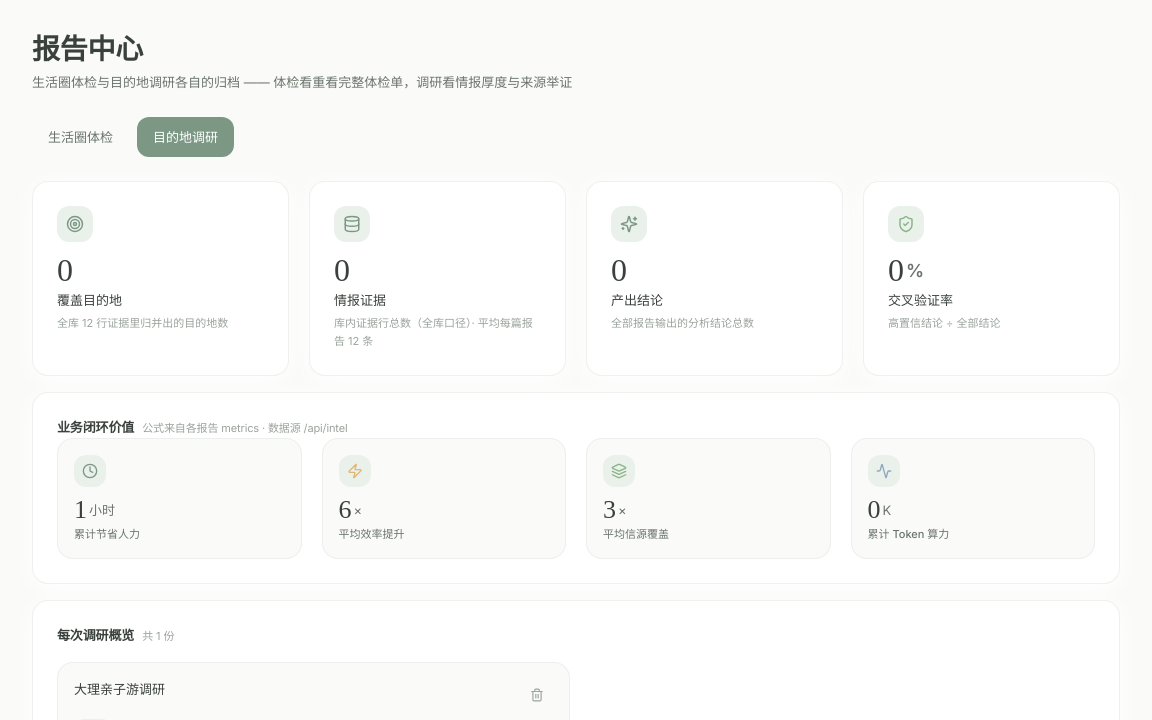
报告中心 · tab 条 › 切回生活圈 → 列表回来，调研内容消失
Expected: the heading "每次调研概览" is shown, x1=57 y1=627 x2=134 y2=643
Click the tab "生活圈体检" at (80, 137), box x1=32 y1=117 x2=129 y2=157
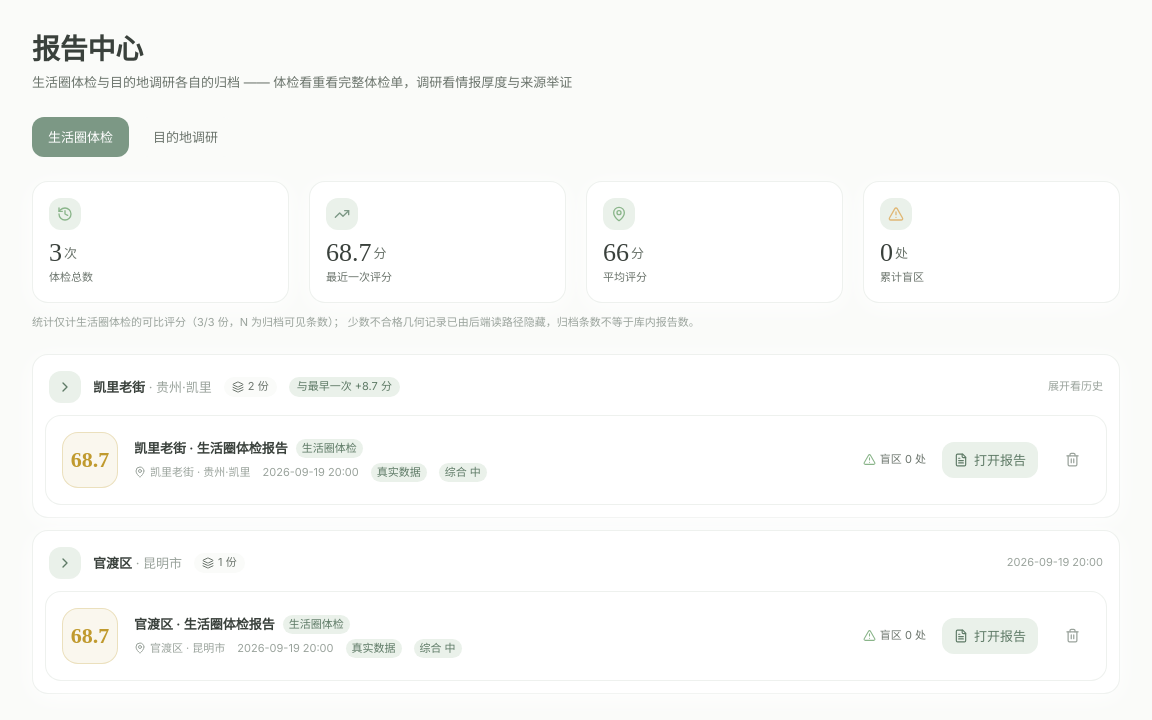
Expected: the button "凯里老街 · 生活圈体检报告" is shown, x1=134 y1=438 x2=288 y2=459
Expected: the link "大理亲子游调研" is gone
